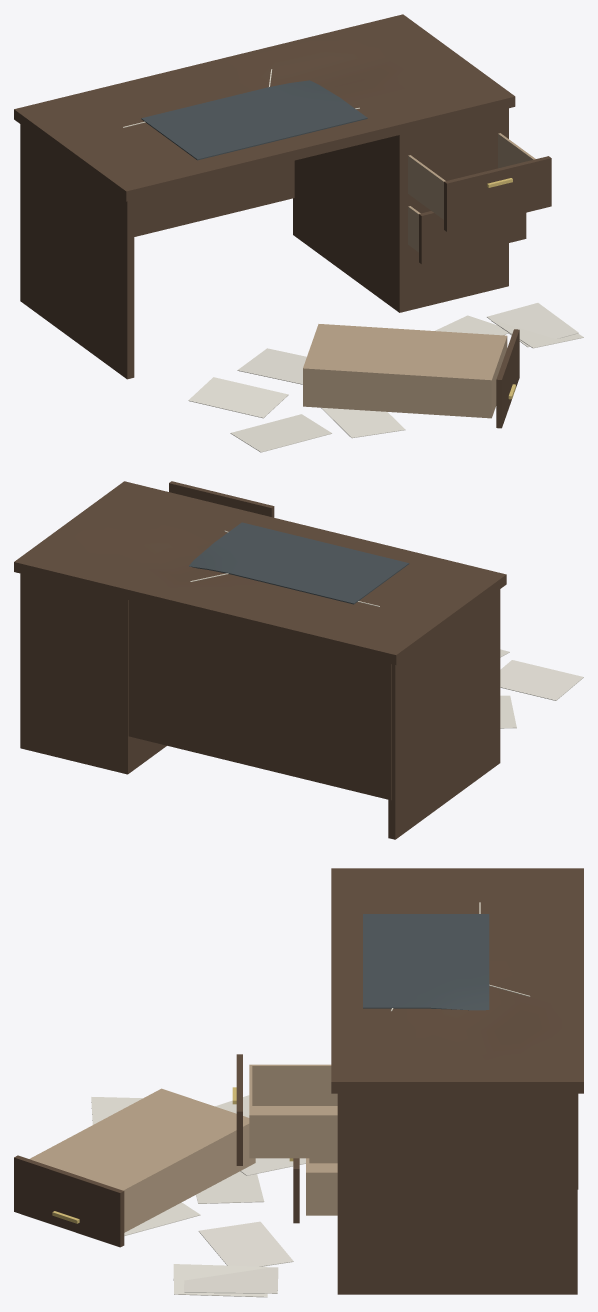
File: doctor_desk_broken.fbx
3 views of the same model, one above another, from view 1: azimuth 30°, elevation 25°; view 2: azimuth 150°, elevation 25°; view 3: azimuth 270°, elevation 25° (orthographic). The views are drawn at different scales.
Visible parts, largest first — view 1: doctor_desk_broken, doctor_desk_broken_debris; view 2: doctor_desk_broken, doctor_desk_broken_debris; view 3: doctor_desk_broken, doctor_desk_broken_debris.
Boxes of the visible parts, x1,y1,x2,y2 form: doctor_desk_broken: (14,14,551,379); doctor_desk_broken_debris: (188,303,583,452); doctor_desk_broken: (14,481,506,839); doctor_desk_broken_debris: (500,649,583,728); doctor_desk_broken: (232,868,583,1294); doctor_desk_broken_debris: (14,1088,305,1297).
Size of the model in its own units: 160 by 76.03 by 180.
